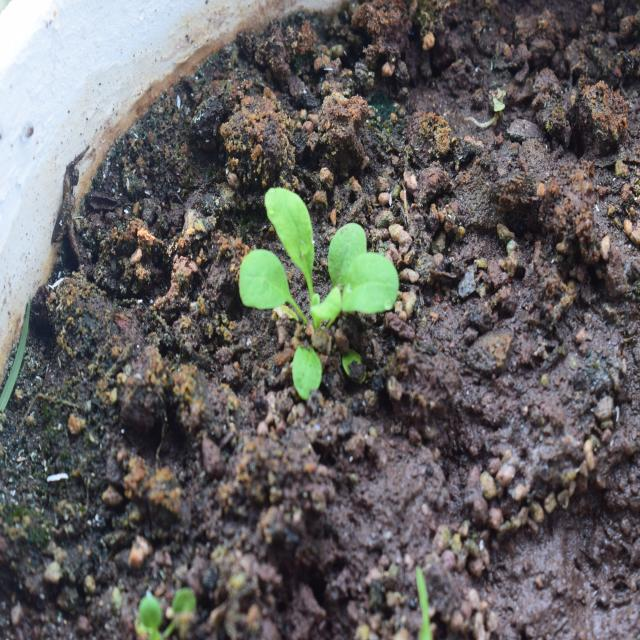Shepherd_Purse: (232, 183, 399, 416)
